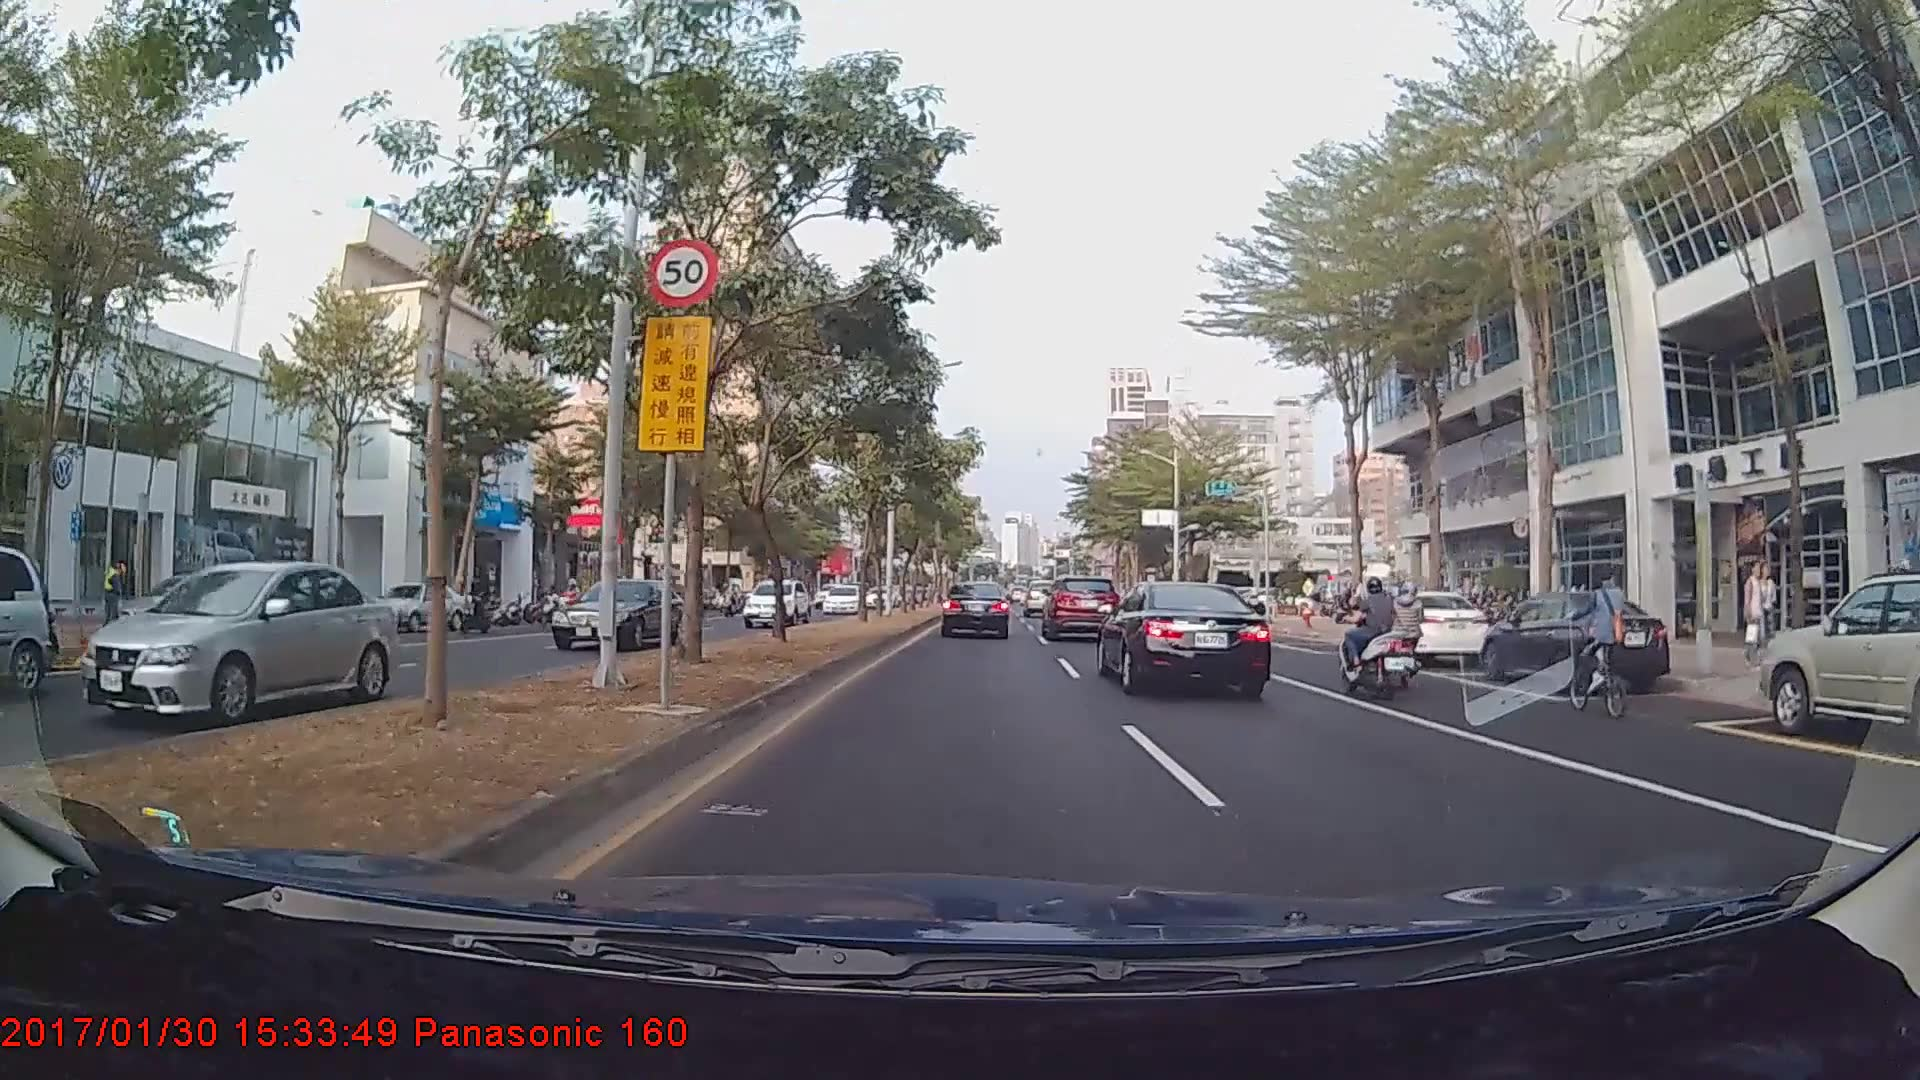pedestrian: (1743, 565, 1764, 665), (1760, 564, 1780, 664)
rider: (1559, 571, 1641, 725), (1335, 574, 1420, 706), (1382, 580, 1432, 684)
vehicle: (77, 560, 398, 728), (1758, 569, 1920, 759), (1100, 574, 1271, 699), (1481, 584, 1670, 694), (1355, 591, 1495, 672), (545, 575, 684, 651), (0, 532, 59, 700), (357, 580, 467, 632), (1043, 576, 1117, 639), (940, 578, 1011, 639), (740, 578, 810, 628), (1022, 580, 1062, 618), (820, 584, 861, 615)
